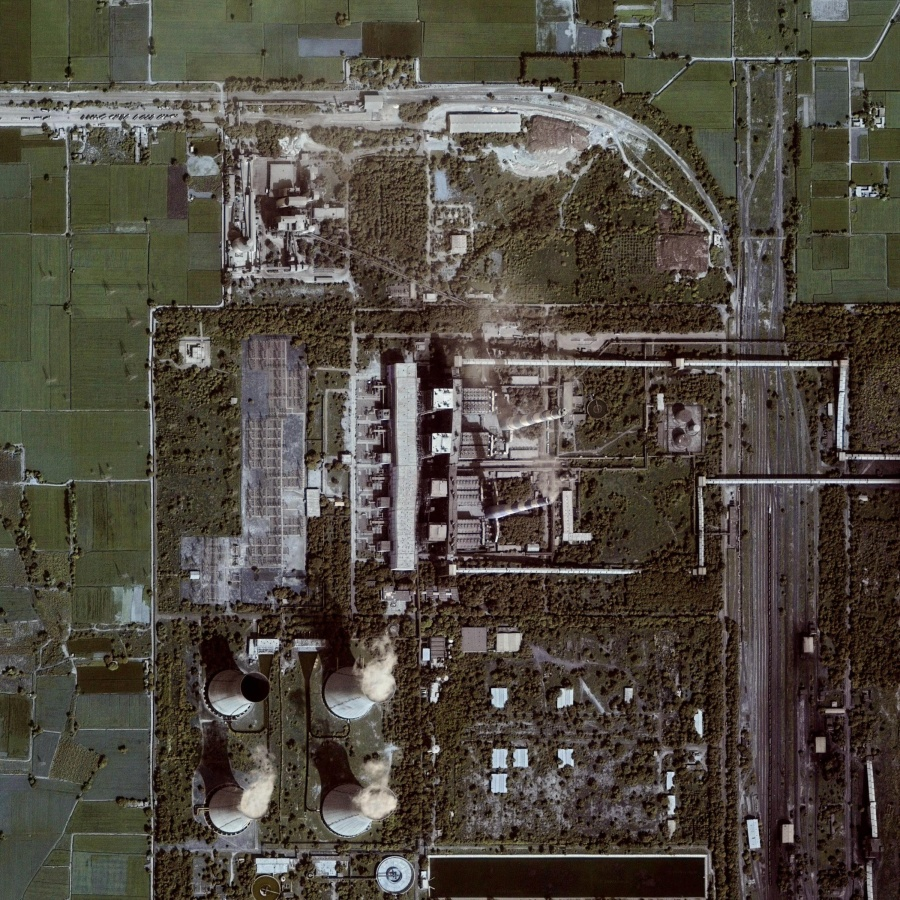PowerPlant: (175, 337, 742, 853)
